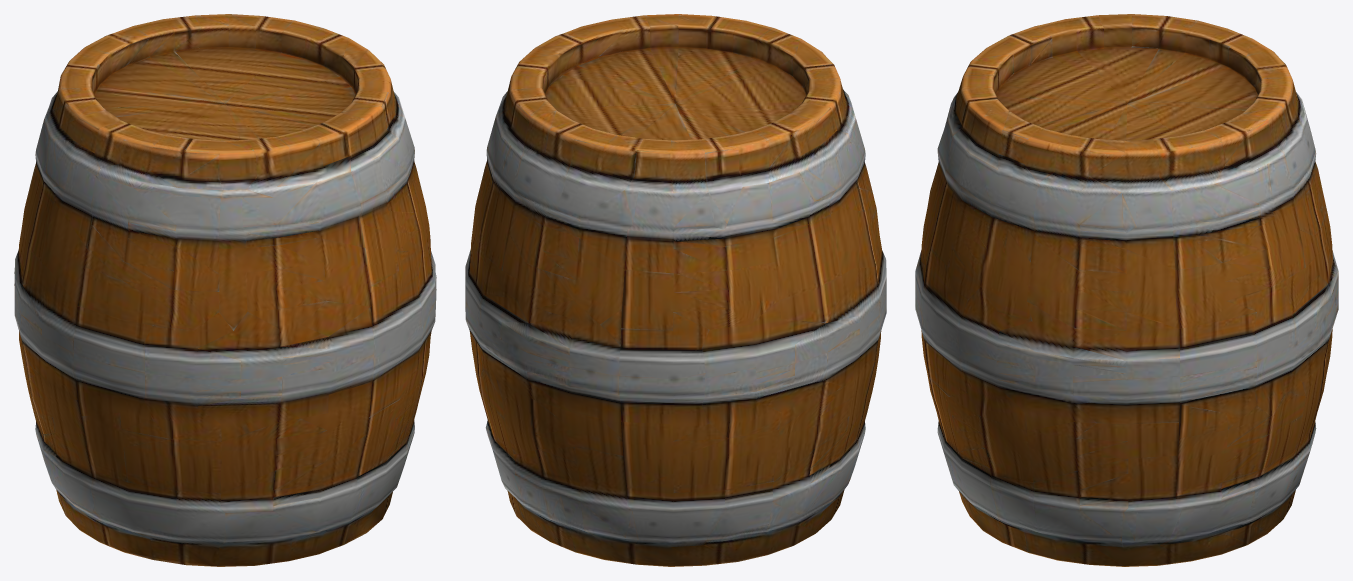
The model's file is barrel.glb.
3 views of the same model, side by side, from view 1: azimuth 30°, elevation 25°; view 2: azimuth 150°, elevation 25°; view 3: azimuth 270°, elevation 25° (orthographic).
Size of the model in its own units: 1.77 by 1.91 by 1.77.
Materials: 1 (1 with a texture image).
